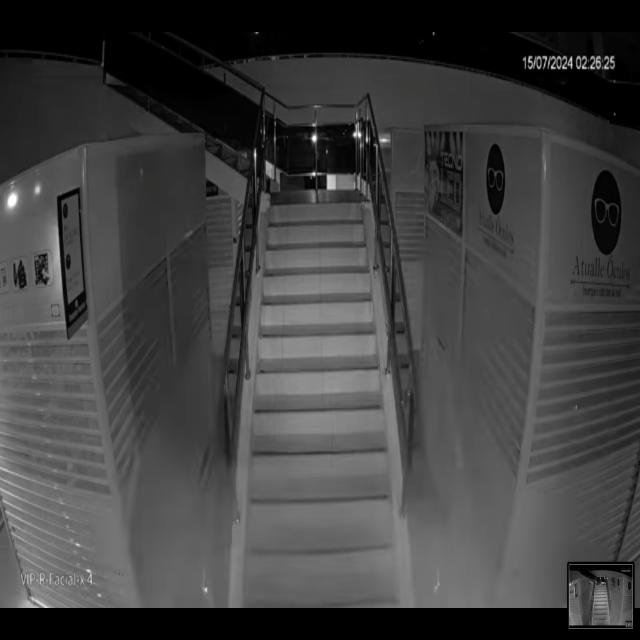Atencao: (129, 435, 551, 595)
